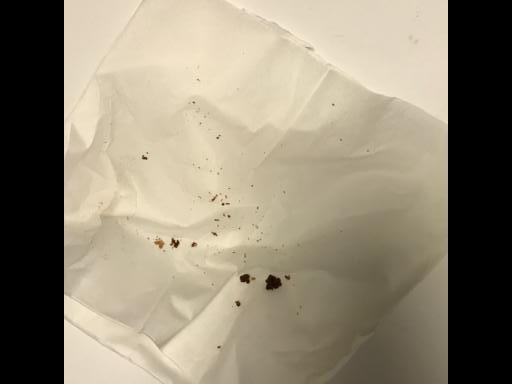trash: (69, 3, 444, 381)
